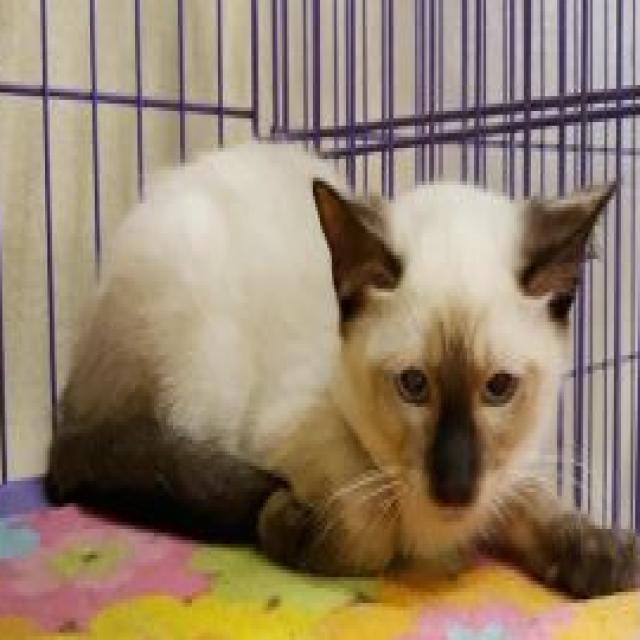Siamese: (38, 133, 640, 599)
